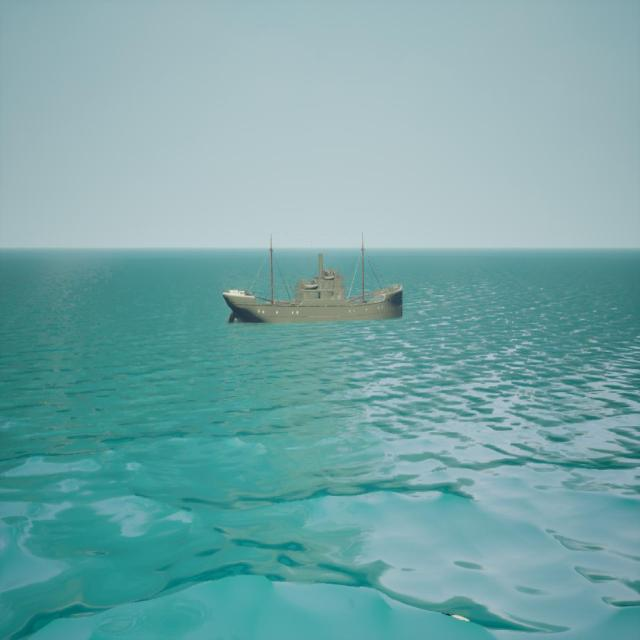fishing ship: (225, 239, 405, 325)
